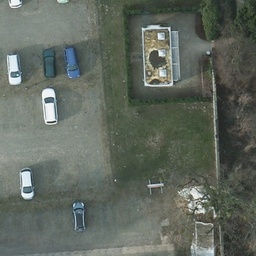car: (18, 159, 35, 199), (63, 45, 81, 80), (42, 88, 58, 125), (42, 44, 59, 76), (73, 200, 85, 231), (9, 54, 20, 84), (3, 0, 21, 9), (52, 0, 69, 2)
